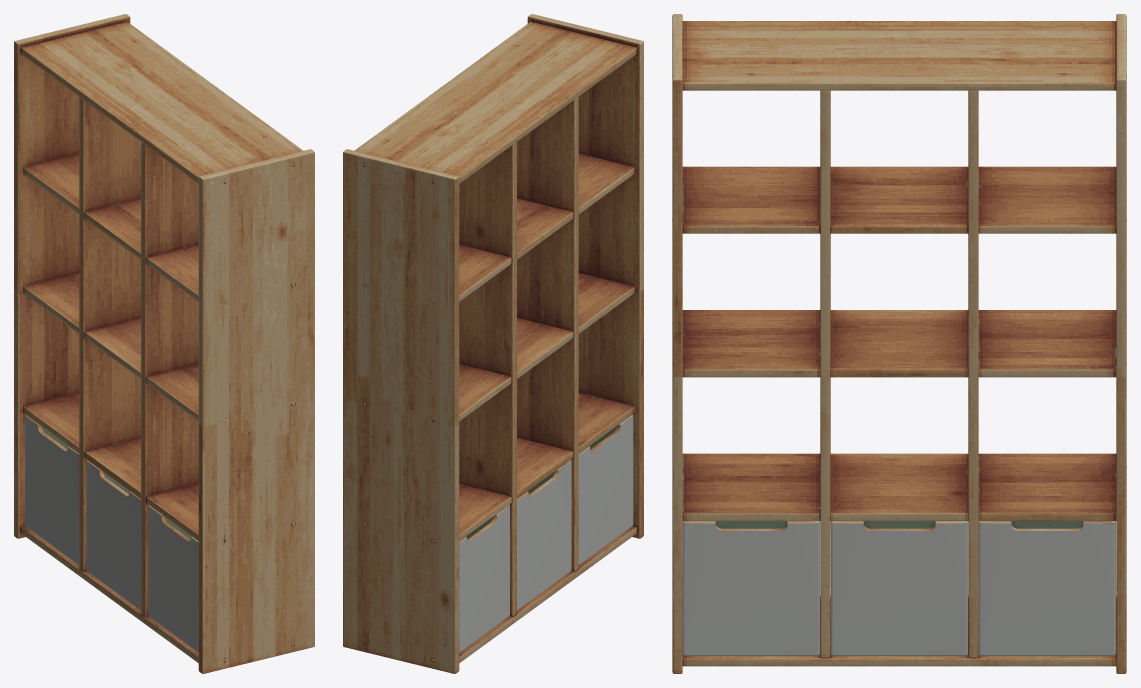
File: wooden_display_shelves_01.glb
3 views of the same model, side by side, from view 1: azimuth 30°, elevation 25°; view 2: azimuth 150°, elevation 25°; view 3: azimuth 270°, elevation 25° (orthographic). The views are drawn at different scales.
Visible parts, largest first — view 1: body; view 2: body; view 3: body.
Part boxes in pixels (x1=…): body: x1=14, y1=14, x2=314, y2=673; body: x1=343, y1=14, x2=643, y2=673; body: x1=672, y1=14, x2=1126, y2=673.
Bounding box in the file's own units: 0.3715 × 1.56 × 1.08.
1 material, 1 textured.
